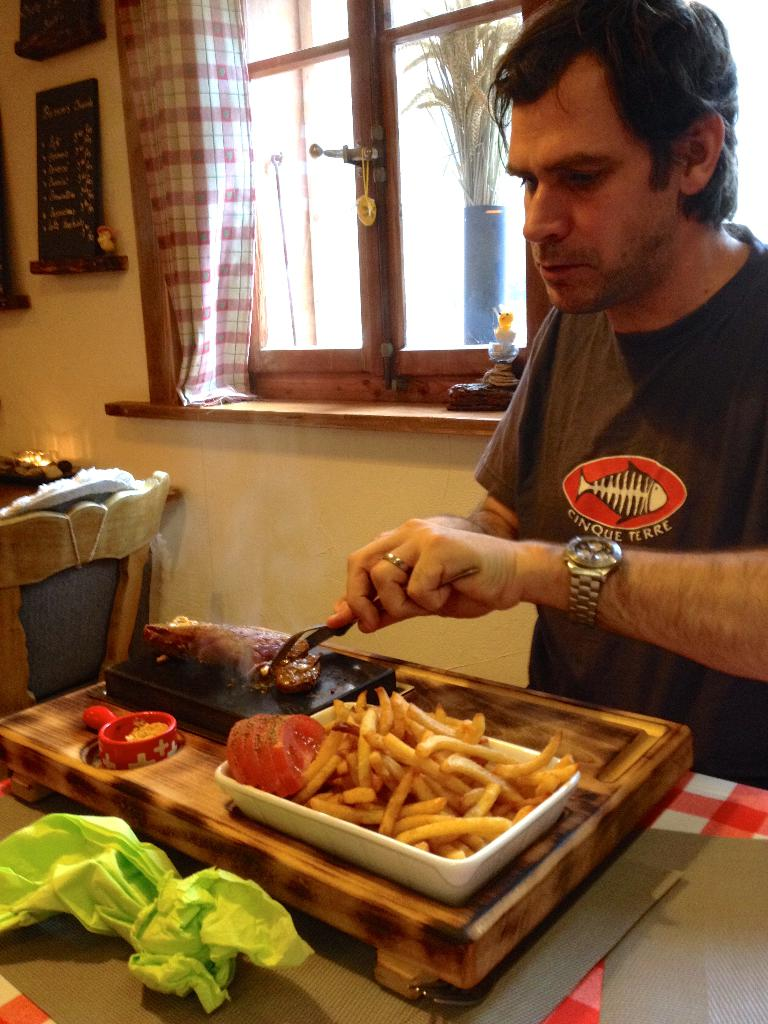French fries: (262, 699, 583, 876)
